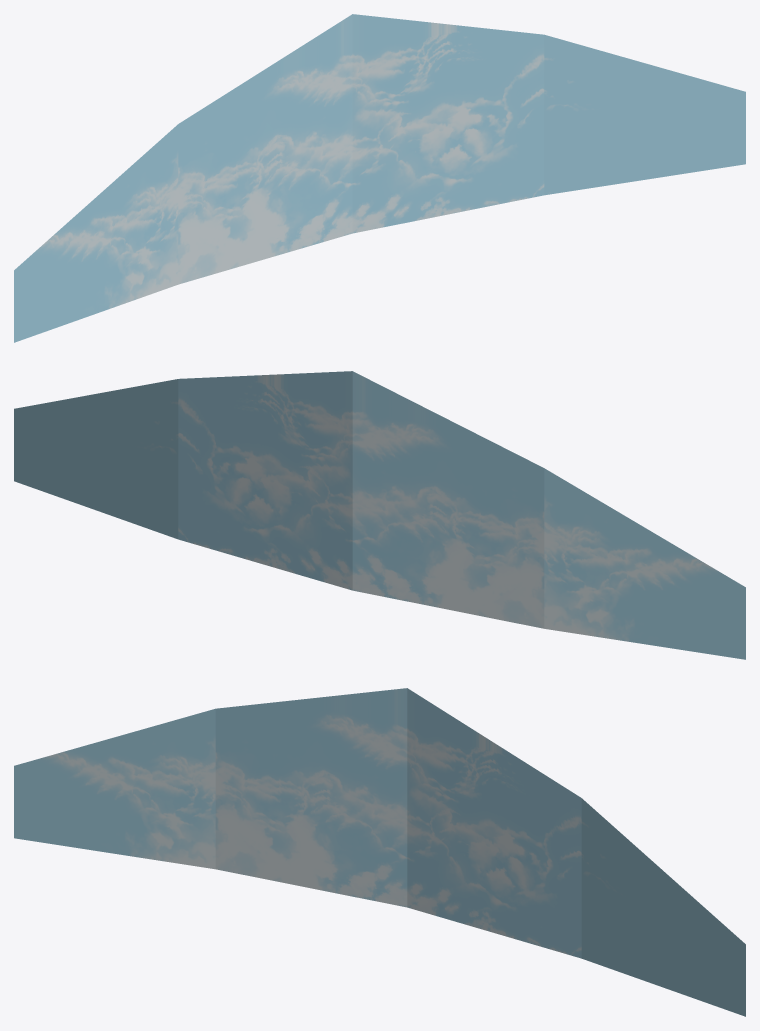
Rendered from SM_CloudCard_Stratus.fbx.
3 views of the same model, one above another, from view 1: azimuth 30°, elevation 25°; view 2: azimuth 150°, elevation 25°; view 3: azimuth 330°, elevation 25° (orthographic).
Visible parts, largest first — view 1: SM_CloudCard_Stratus; view 2: SM_CloudCard_Stratus; view 3: SM_CloudCard_Stratus.
Part boxes in pixels (left/top/right/bottom): SM_CloudCard_Stratus: left=14, top=14, right=745, bottom=342; SM_CloudCard_Stratus: left=14, top=371, right=745, bottom=659; SM_CloudCard_Stratus: left=14, top=688, right=745, bottom=1016.
Size of the model in its own units: 200 by 57.31 by 12.96.
